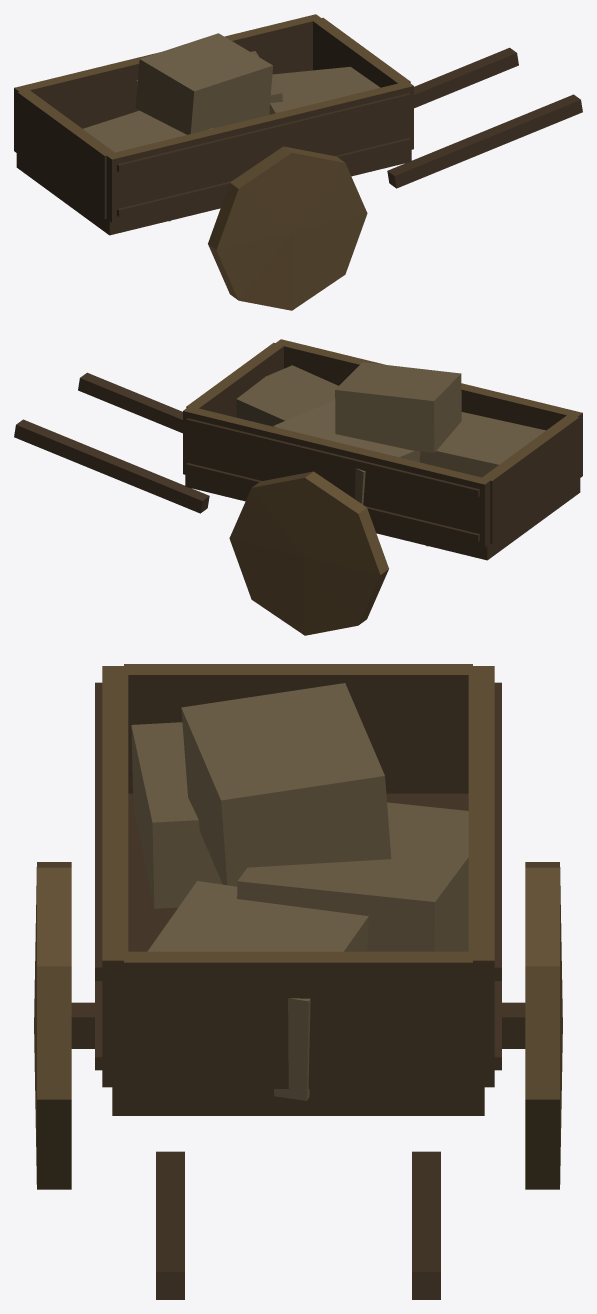
The model's file is grain-cart.glb.
3 renders of one model, top to bottom at view 1: azimuth 30°, elevation 25°; view 2: azimuth 150°, elevation 25°; view 3: azimuth 270°, elevation 25°, orthographic. The views are drawn at different scales.
Visible parts, largest first — view 1: GrainCart; view 2: GrainCart; view 3: GrainCart.
Part boxes in pixels (x1,y1,x2,y2): GrainCart: [14, 14, 582, 310]; GrainCart: [14, 339, 582, 635]; GrainCart: [34, 664, 562, 1299].
Bounding box in the file's own units: 1.93 × 0.8113 × 0.91.
Materials: 1 (1 with a texture image).
